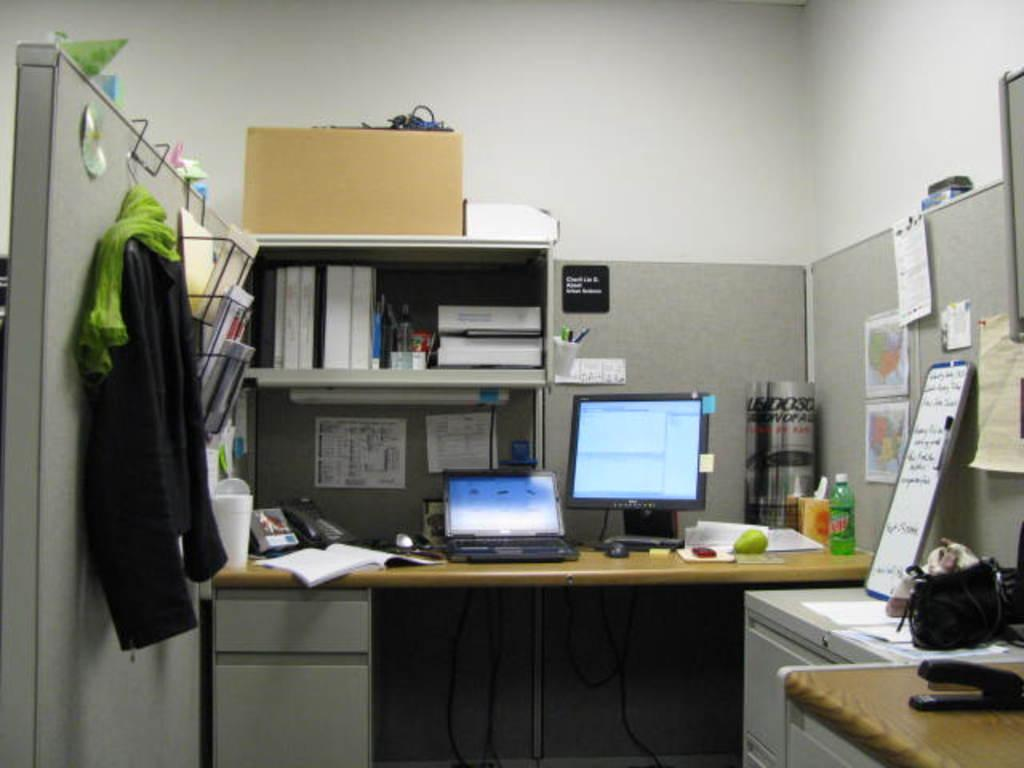Computer-monitor: (565, 386, 722, 552)
